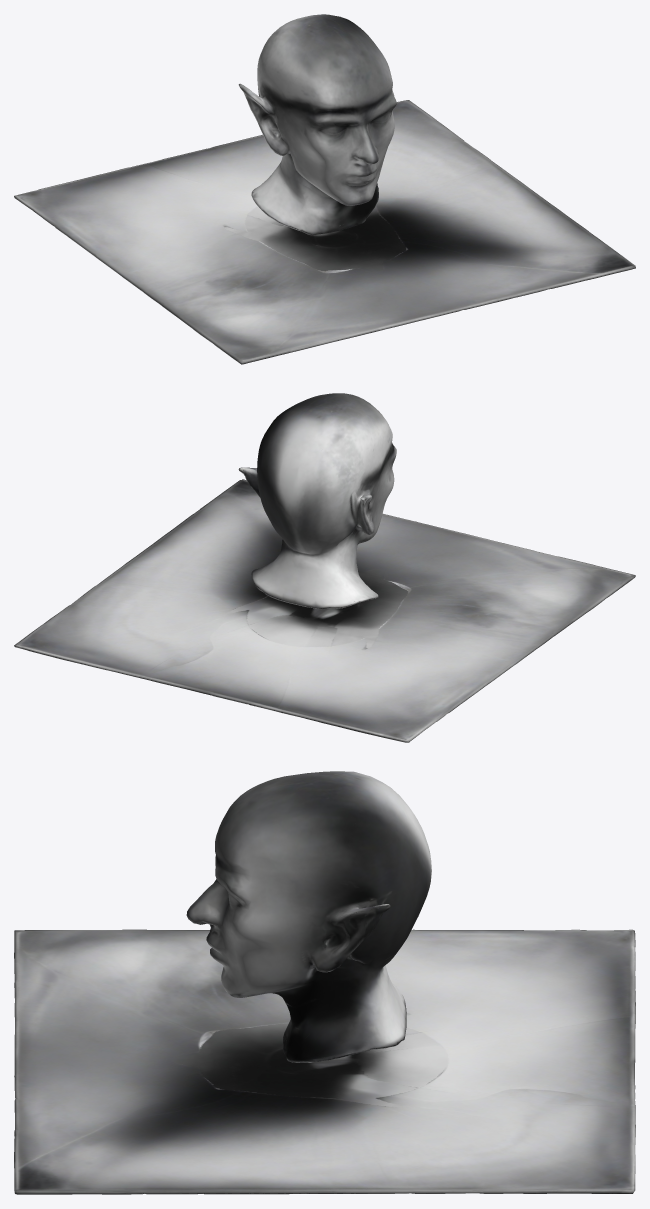
File: Vulcan_Visionary_1027060033.obj
3 views of the same model, one above another, from view 1: azimuth 30°, elevation 25°; view 2: azimuth 150°, elevation 25°; view 3: azimuth 270°, elevation 25° (orthographic). The views are drawn at different scales.
Parts seen in each view (by area): view 1: Mesh_0; view 2: Mesh_0; view 3: Mesh_0.
Part boxes in pixels (<box>): Mesh_0: <box>14,14,635,364</box>; Mesh_0: <box>14,393,635,742</box>; Mesh_0: <box>14,771,635,1194</box>.
Bounding box in the file's own units: 2 × 1.01 × 2.01.
1 material, 1 textured.
